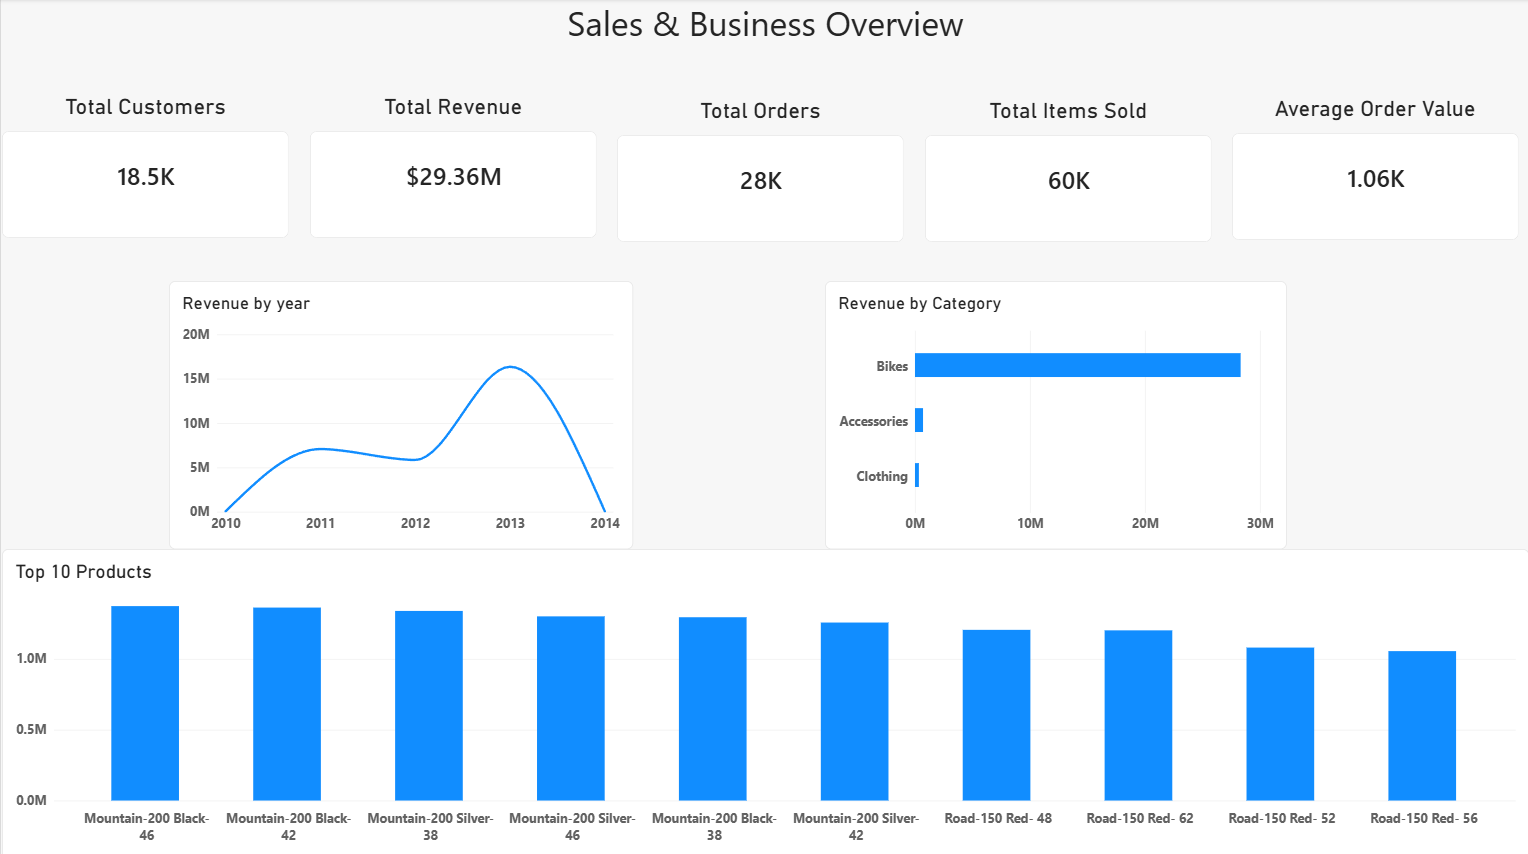

What the dashboard file says about the page in this screenshot:
{"tool":"powerbi","page":{"name":"Page 1","canvas":[1920,1080],"ordinal":0},"visuals":[{"type":"cardVisual","title":"Total Revenue","fields":{"Data":["Sum(analytics executive_sales.total_sales)"]},"box":[388,98,360,202.2],"z":0},{"type":"cardVisual","title":"Total Orders","fields":{"Data":["Sum(analytics executive_sales.total_orders)"]},"box":[774,103,360.4,202.1],"z":1000},{"type":"cardVisual","title":"Total Customers","fields":{"Data":["Sum(analytics executive_sales.total_customers)"]},"box":[1.5,98,360.4,202.1],"z":2000},{"type":"cardVisual","title":"Total Items Sold","fields":{"Data":["Sum(analytics executive_sales.total_items_sold)"]},"box":[1160.4,103,360,202.1],"z":3000},{"type":"cardVisual","title":"Average Order Value","fields":{"Data":["Sum(analytics executive_sales.average_order_value)"]},"box":[1546.4,101.1,360,202.2],"z":4000},{"type":"lineChart","title":"Revenue by year","fields":{"Category":["analytics sales_trends.year_number","analytics sales_trends.month_number"],"Y":["Sum(analytics sales_trends.total_sales)"]},"box":[211.3,353.7,583.3,336.8],"z":5000},{"type":"clusteredBarChart","title":"Revenue by Category","fields":{"Category":["analytics category_performance.category"],"Y":["Sum(analytics category_performance.total_sales)"]},"box":[1035,353.7,580.3,336.8],"z":6000},{"type":"columnChart","title":"Top 10 Products","fields":{"Category":["analytics product_performance.product_name"],"Y":["Sum(analytics product_performance.total_sales)"]},"box":[1.5,690.5,1918.5,388.9],"z":7000},{"type":"textbox","box":[0,0,1920,98],"z":8000}]}

Visuals, with their boxes in screenshot pixels (x1, y1, x2, y2), scaled from the page's 1920x1080 canvas onto the 1528x854 screenshot:
"Total Revenue" cardVisual: [309, 77, 595, 237]
"Total Orders" cardVisual: [616, 81, 903, 241]
"Total Customers" cardVisual: [1, 77, 288, 237]
"Total Items Sold" cardVisual: [923, 81, 1210, 241]
"Average Order Value" cardVisual: [1231, 80, 1517, 240]
"Revenue by year" lineChart: [168, 280, 632, 546]
"Revenue by Category" clusteredBarChart: [824, 280, 1286, 546]
"Top 10 Products" columnChart: [1, 546, 1527, 853]
textbox: [0, 0, 1527, 77]
